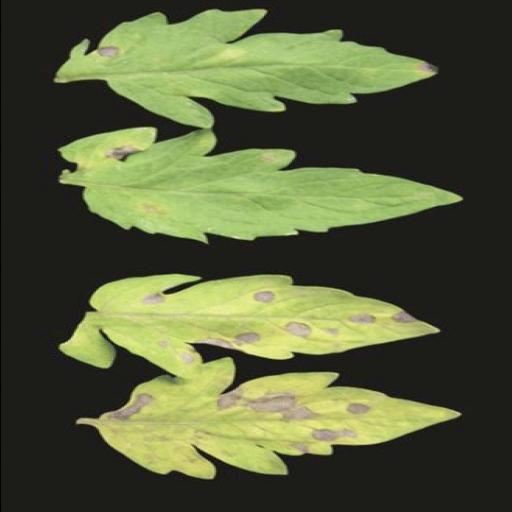Early Blight: (60, 125, 466, 243), (54, 8, 444, 128), (97, 355, 459, 481), (60, 274, 442, 382)
